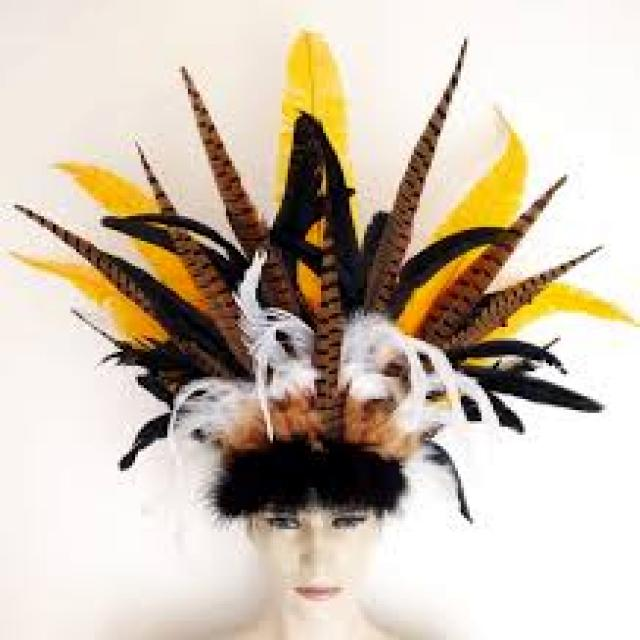Phasianus Colchicus: (358, 44, 465, 321), (416, 174, 570, 348), (444, 245, 607, 357), (312, 189, 349, 404)
